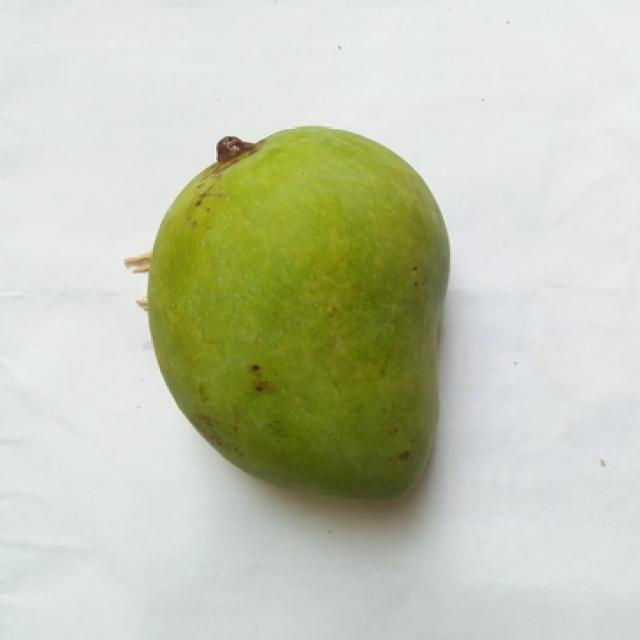Mango: (148, 127, 448, 500)
